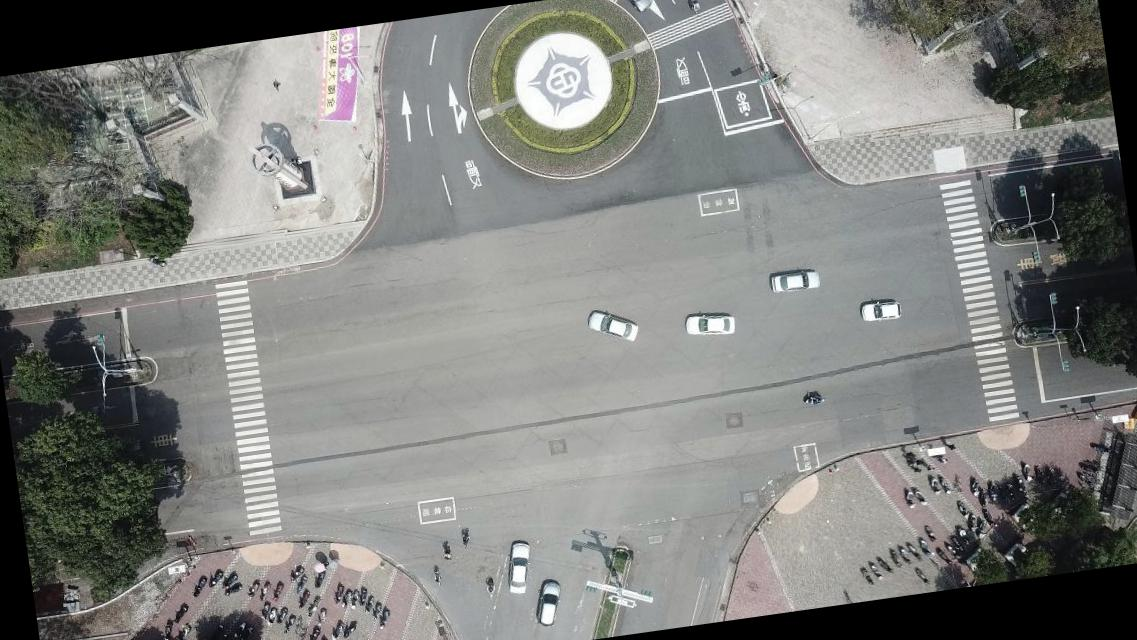vehicle: (586, 304, 642, 348), (500, 540, 538, 598), (532, 580, 568, 630), (684, 310, 738, 341), (770, 268, 822, 294), (861, 298, 904, 324)
